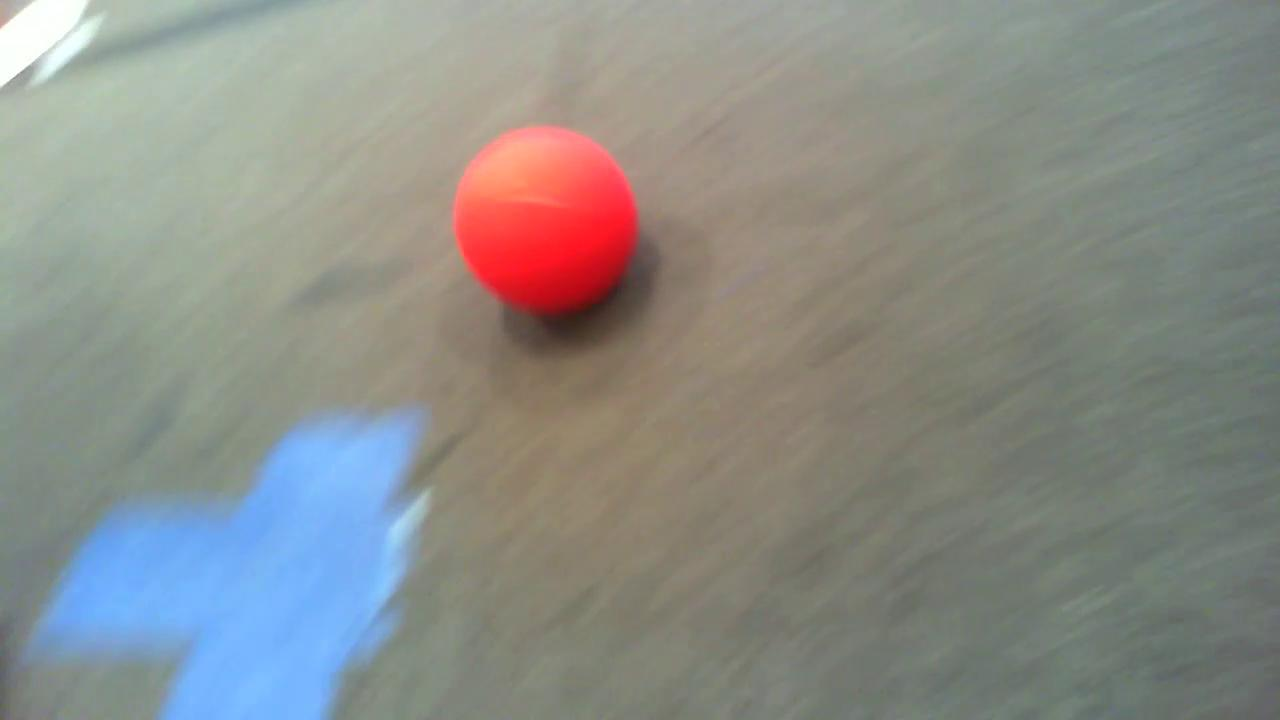Red_Ball: (418, 125, 670, 319)
